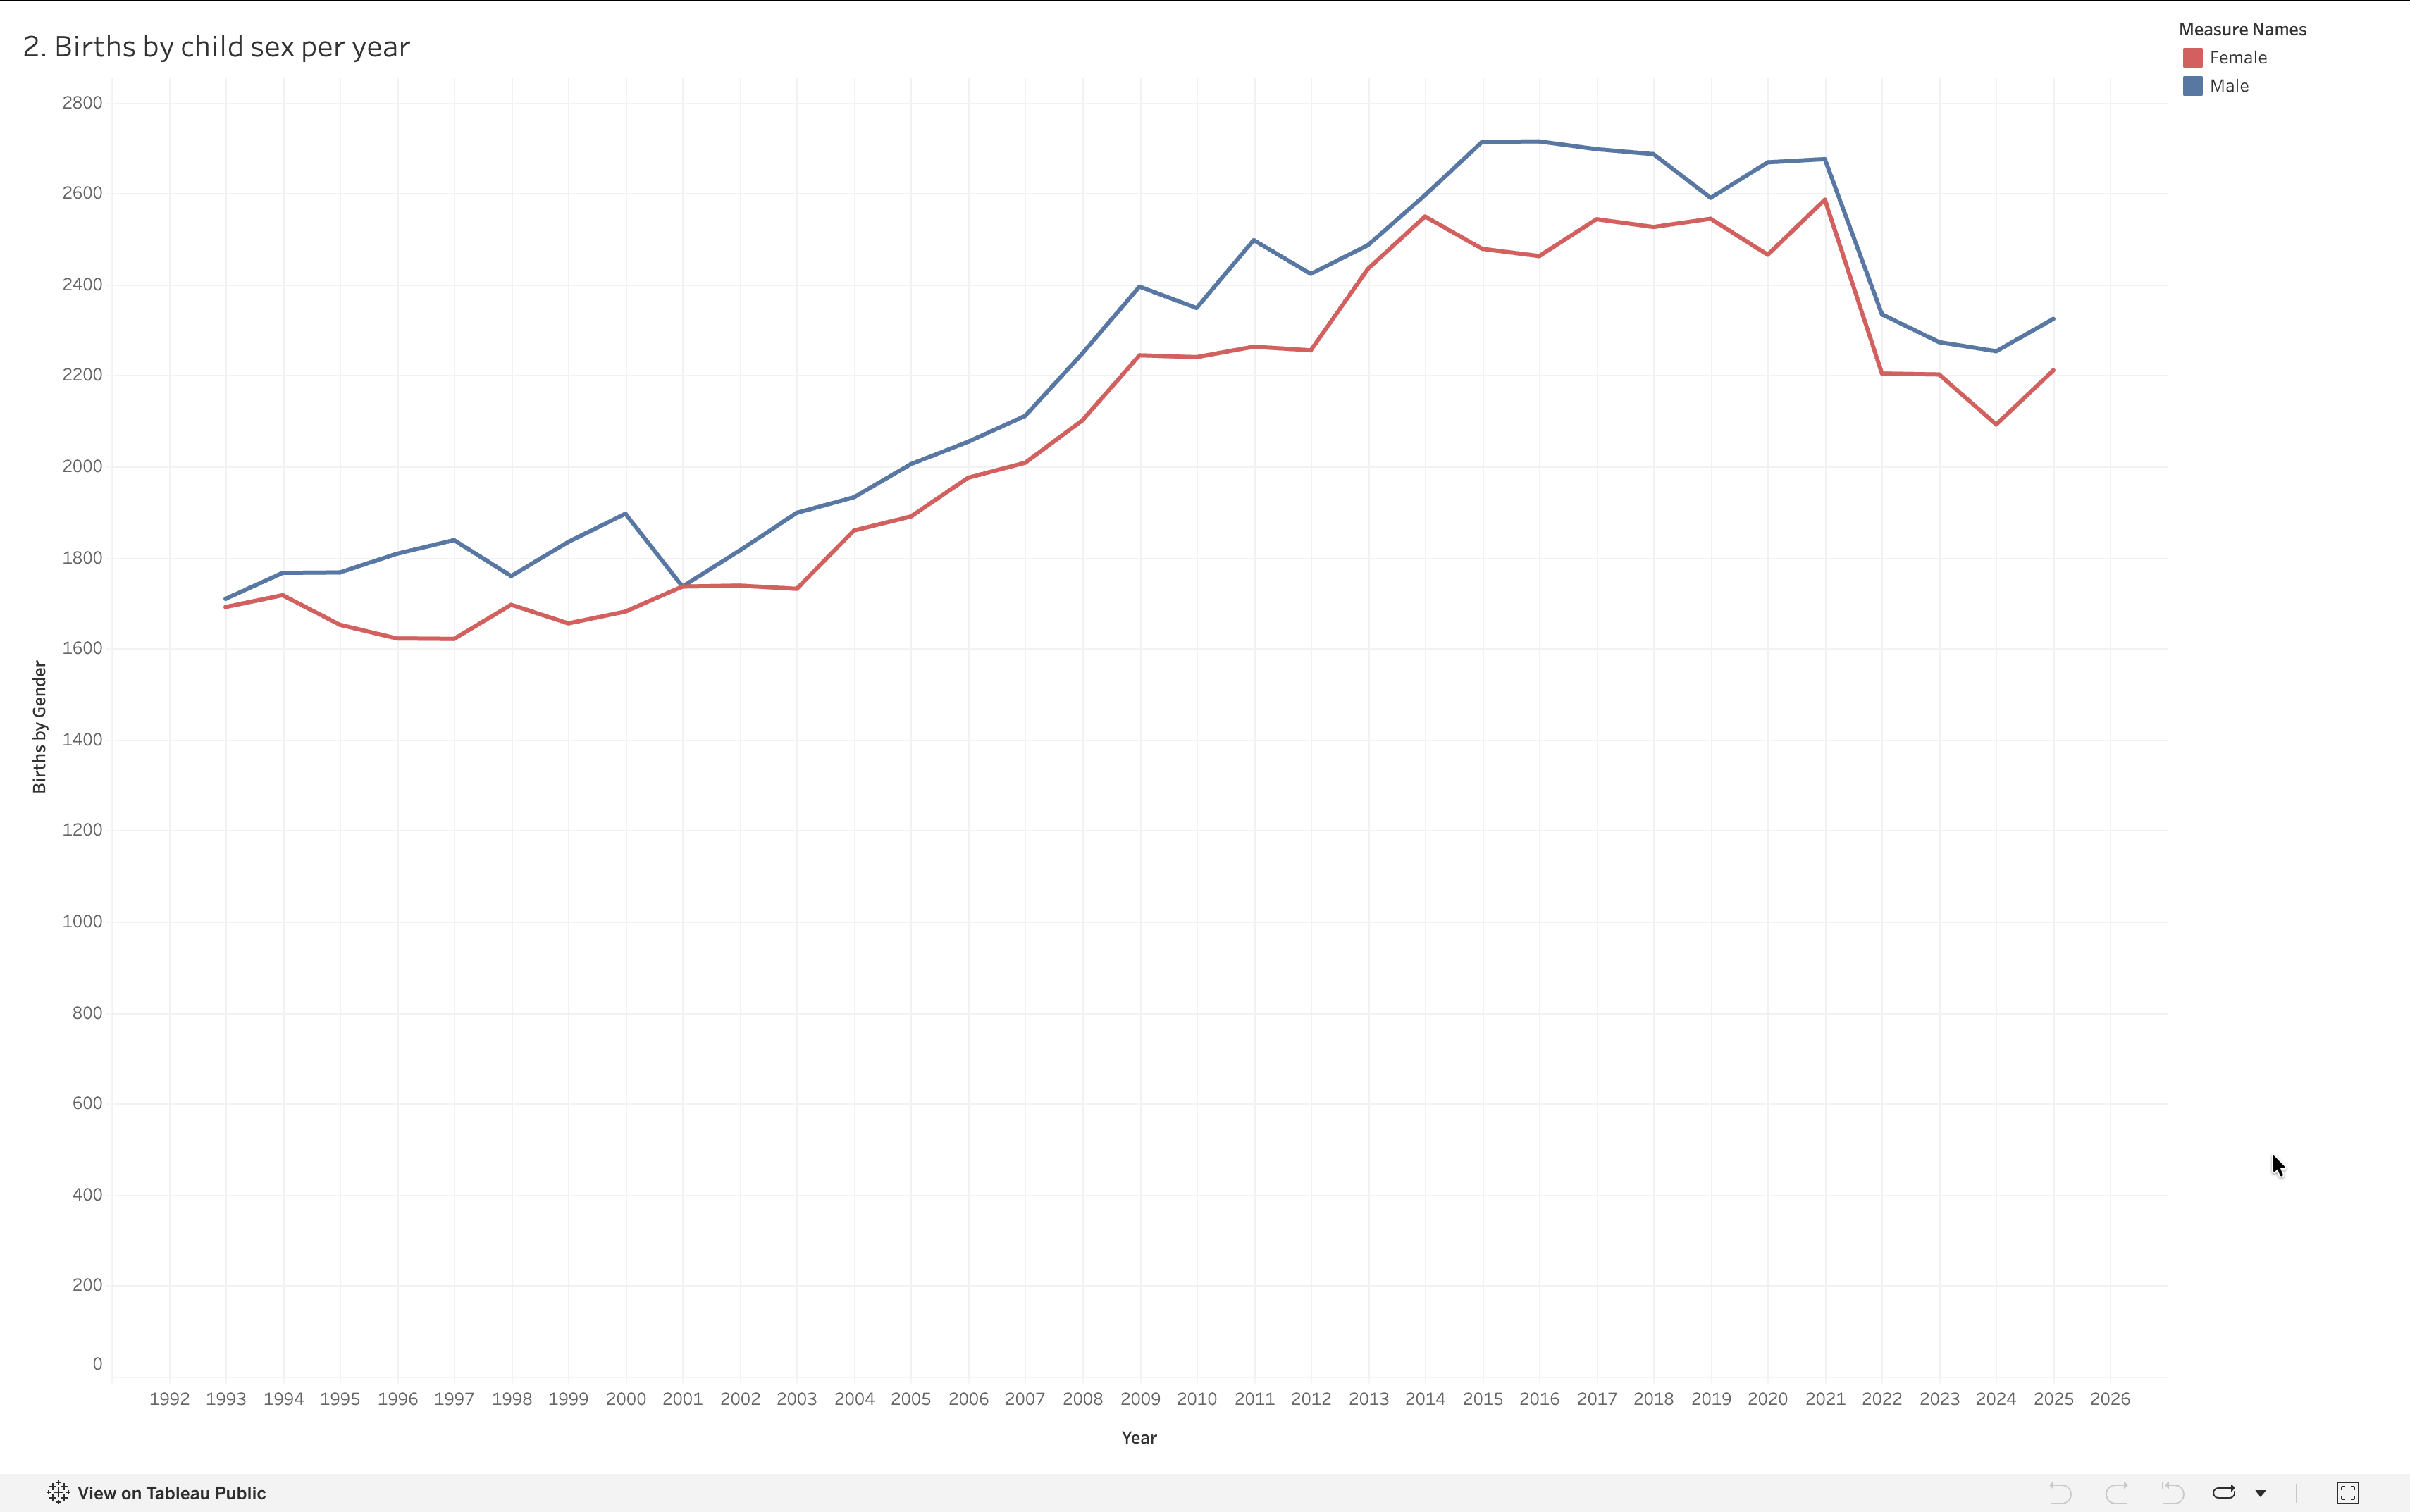

What the dashboard file says about the page in this screenshot:
{"tool":"tableau","page":{"name":"Stadt Zurich Births: Analysis 2","canvas":[1000,1000],"units":"permille","ordinal":2},"visuals":[{"type":"worksheet","title":"2. Births by child sex per year","mark":"Line","cols":["year"],"box":[5.3,9,882.6,982]},{"type":"legend","title":"2. Births by child sex per year","param":"[federated.0q4bim306i05ac1afxiii1u0y2cf].[:Measure Names]","box":[887.9,9,106.7,74.3]}]}

Visuals, with their boxes on the dashboard's canvas, which has no fixed pixel size, in thousandths of its width and height (x1, y1, x2, y2). These are canvas units, not pixel positions in the 2410x1512 screenshot, which may show the page scaled, cropped or inside an application window:
"2. Births by child sex per year" worksheet (Line marks): 5 9 888 991
"2. Births by child sex per year" legend: 888 9 995 83
